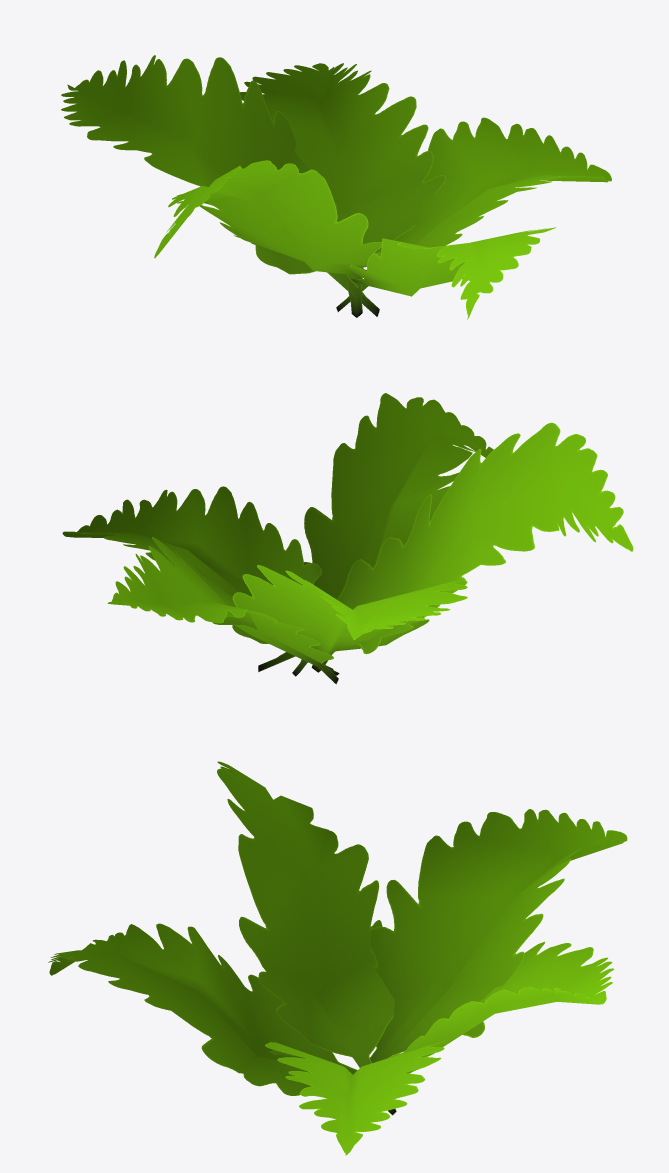
File: fern4_lod0_001.fbx
3 views of the same model, one above another, from view 1: azimuth 30°, elevation 25°; view 2: azimuth 150°, elevation 25°; view 3: azimuth 270°, elevation 25° (orthographic). The views are drawn at different scales.
Visible parts, largest first — view 1: fern4_lod0.001; view 2: fern4_lod0.001; view 3: fern4_lod0.001.
Part boxes in pixels (x1,y1,x2,y2): fern4_lod0.001: [61, 55, 611, 319]; fern4_lod0.001: [62, 393, 633, 684]; fern4_lod0.001: [48, 761, 627, 1155].
Bounding box in the file's own units: 285 × 132 × 287.
